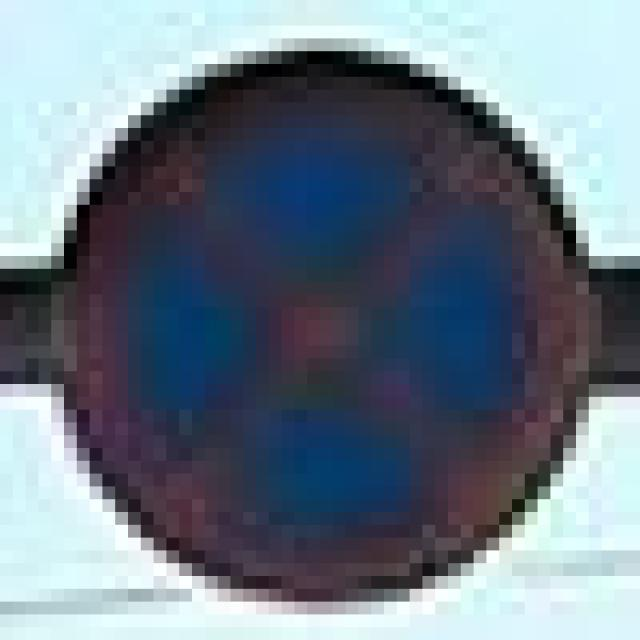no stopping or standing: (35, 37, 599, 583)
